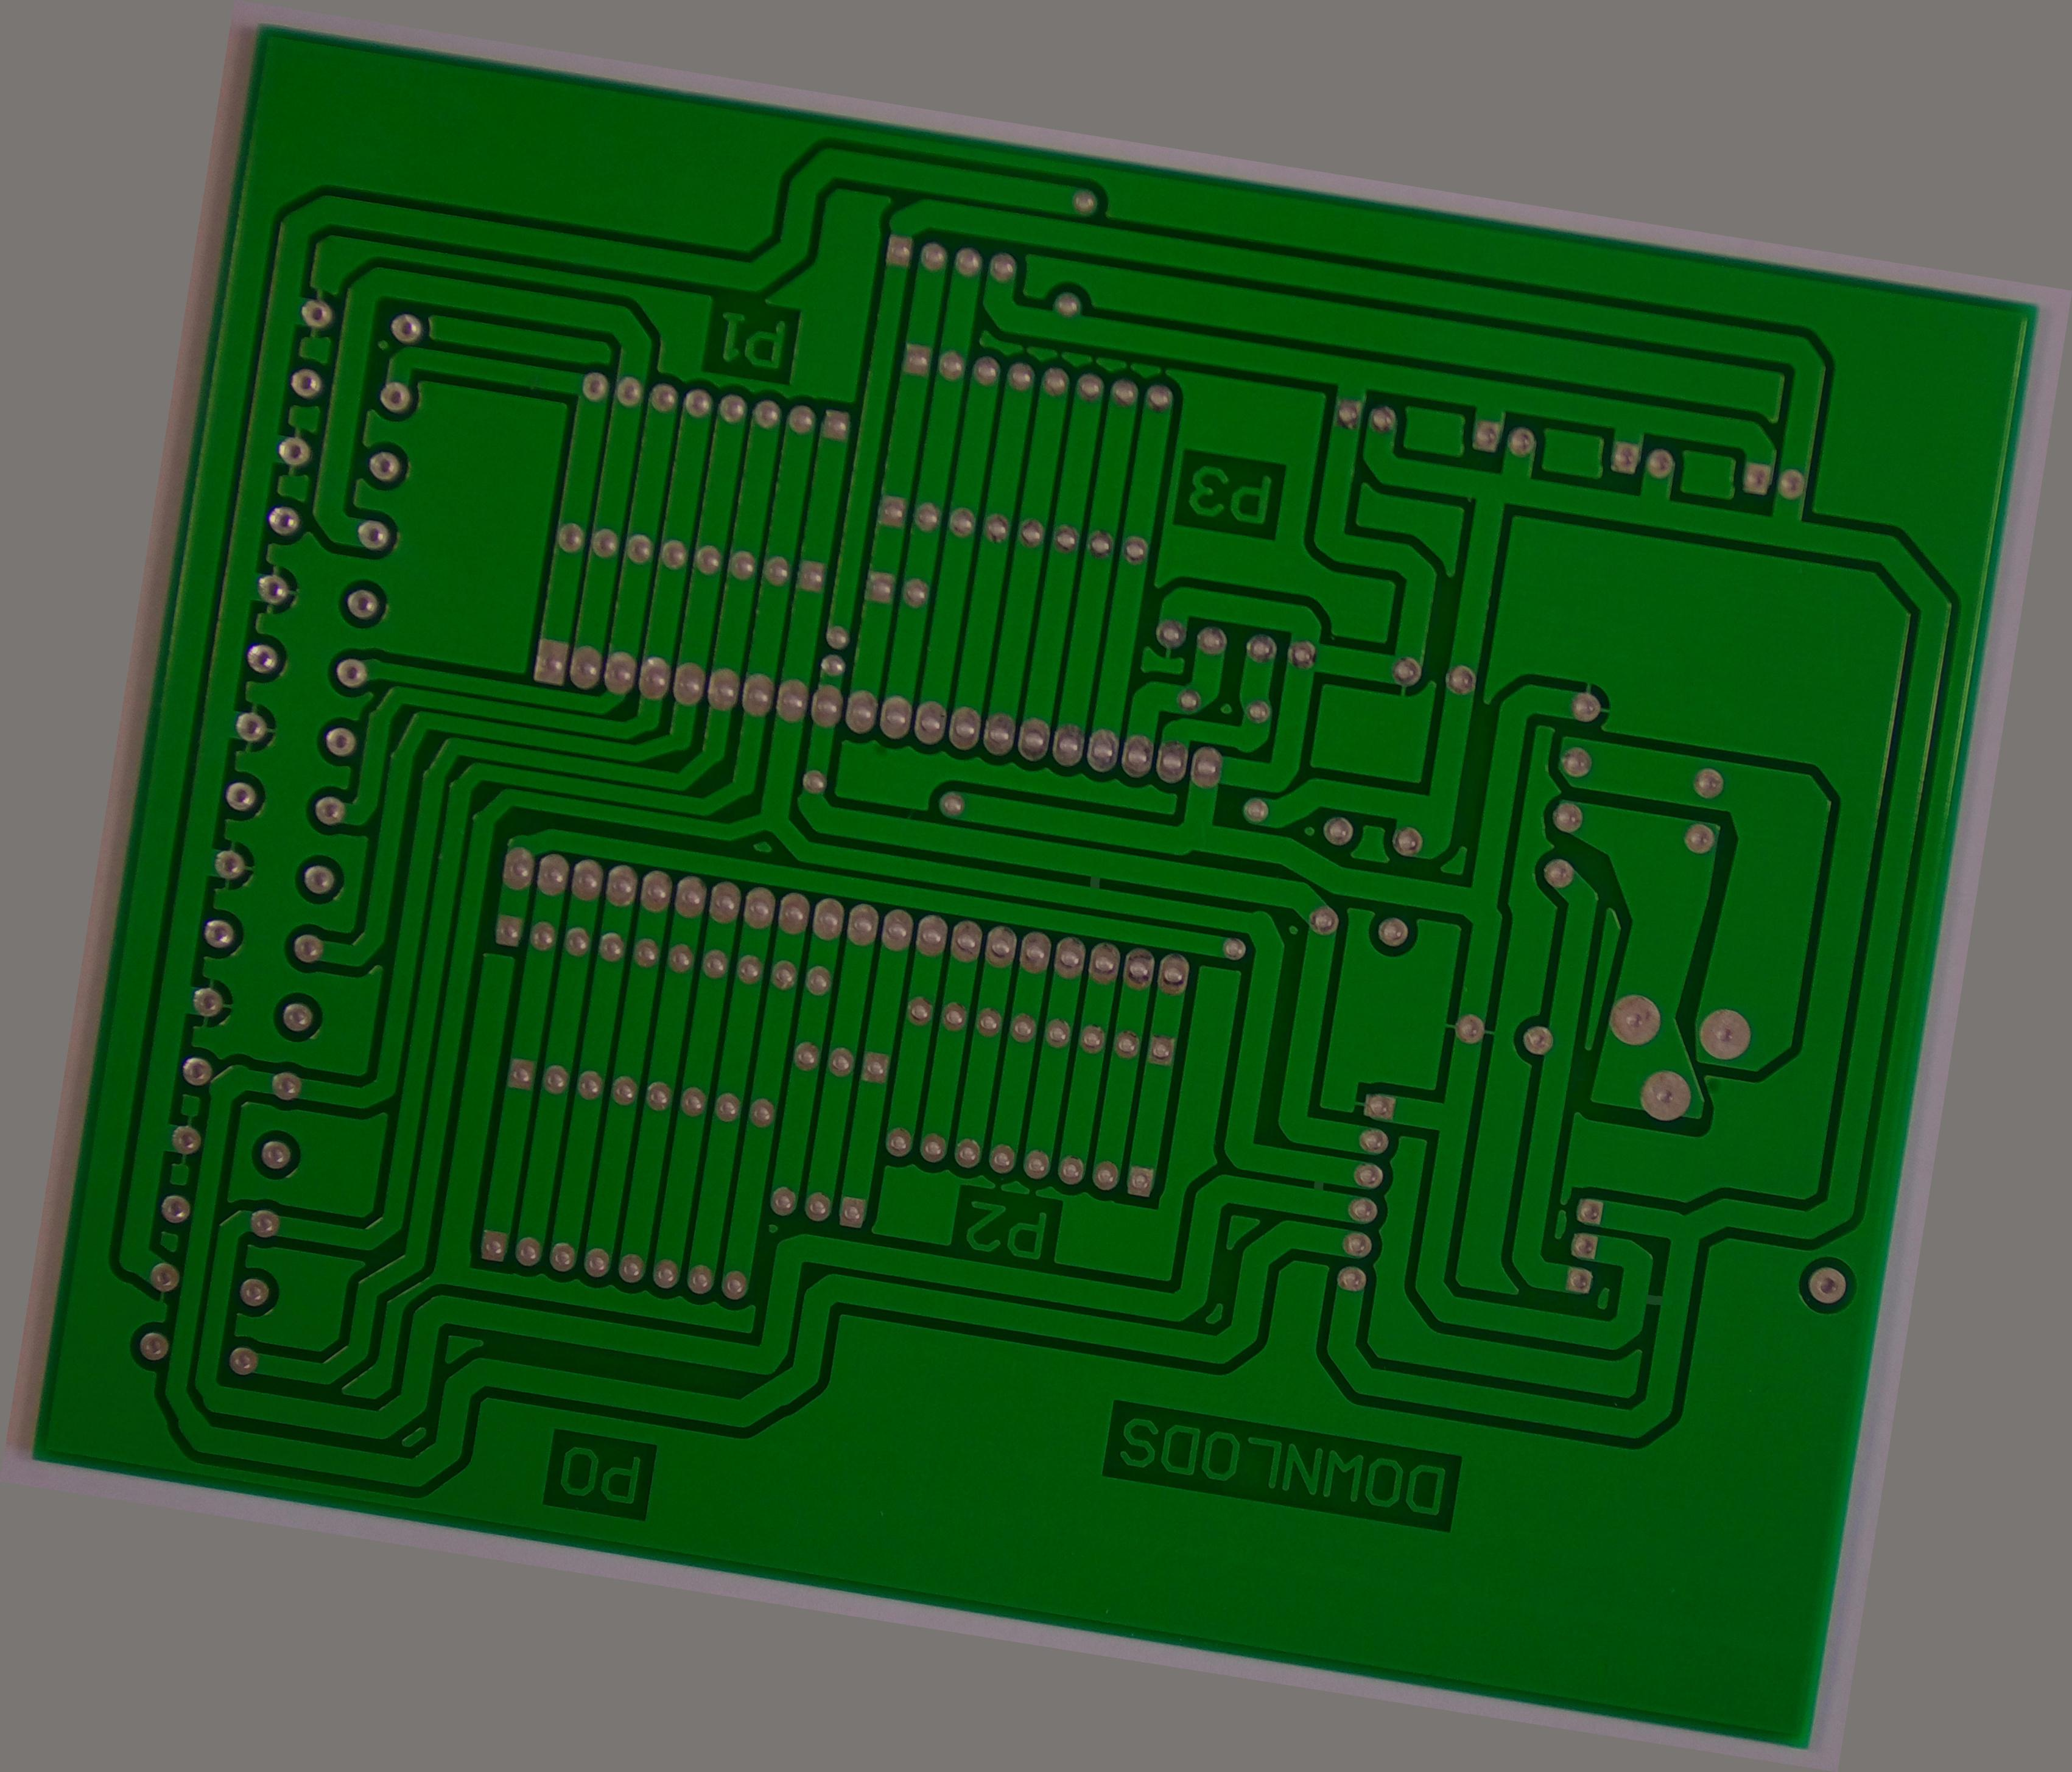short: (1608, 1257, 1689, 1340), (1062, 847, 1133, 916), (1288, 1151, 1351, 1220)
